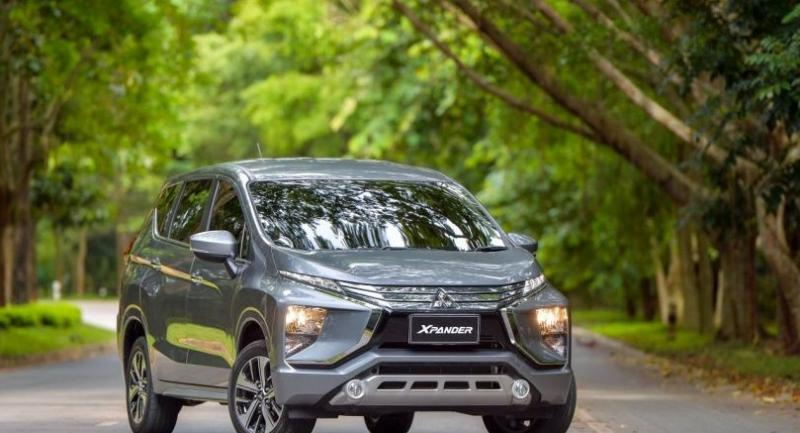car: (116, 156, 577, 433)
